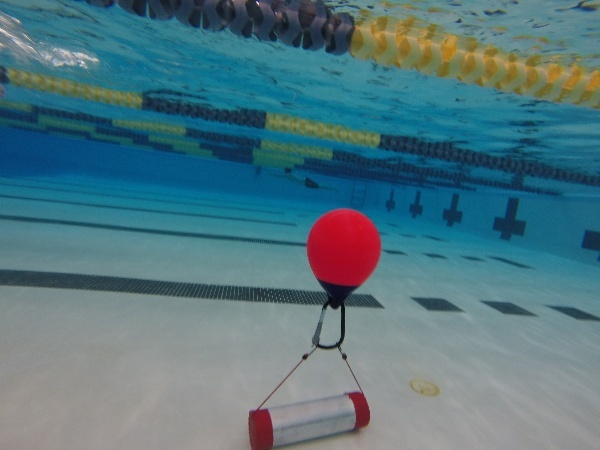buoy_red: (300, 206, 384, 311)
